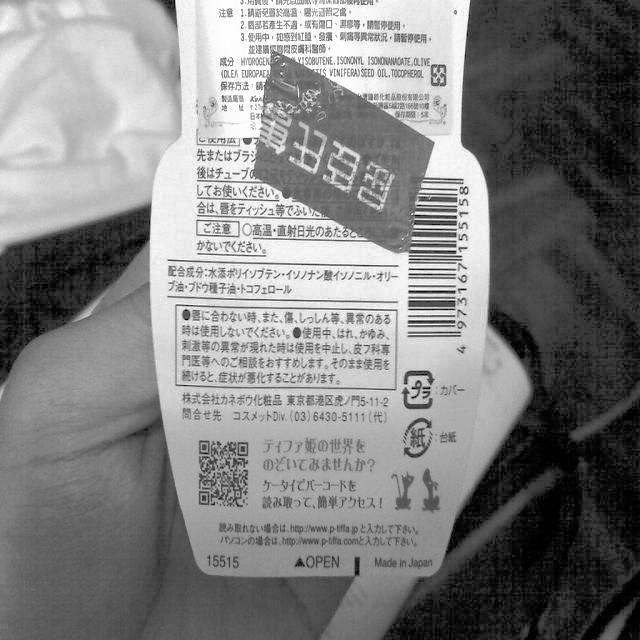qr_code: (199, 441, 248, 507)
